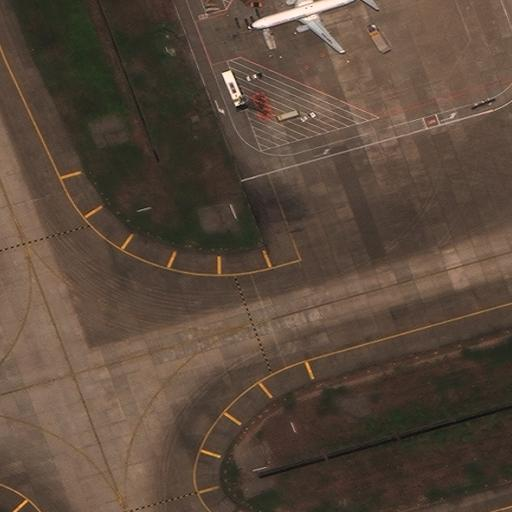Medium Civil Transport: (247, 0, 363, 54)
